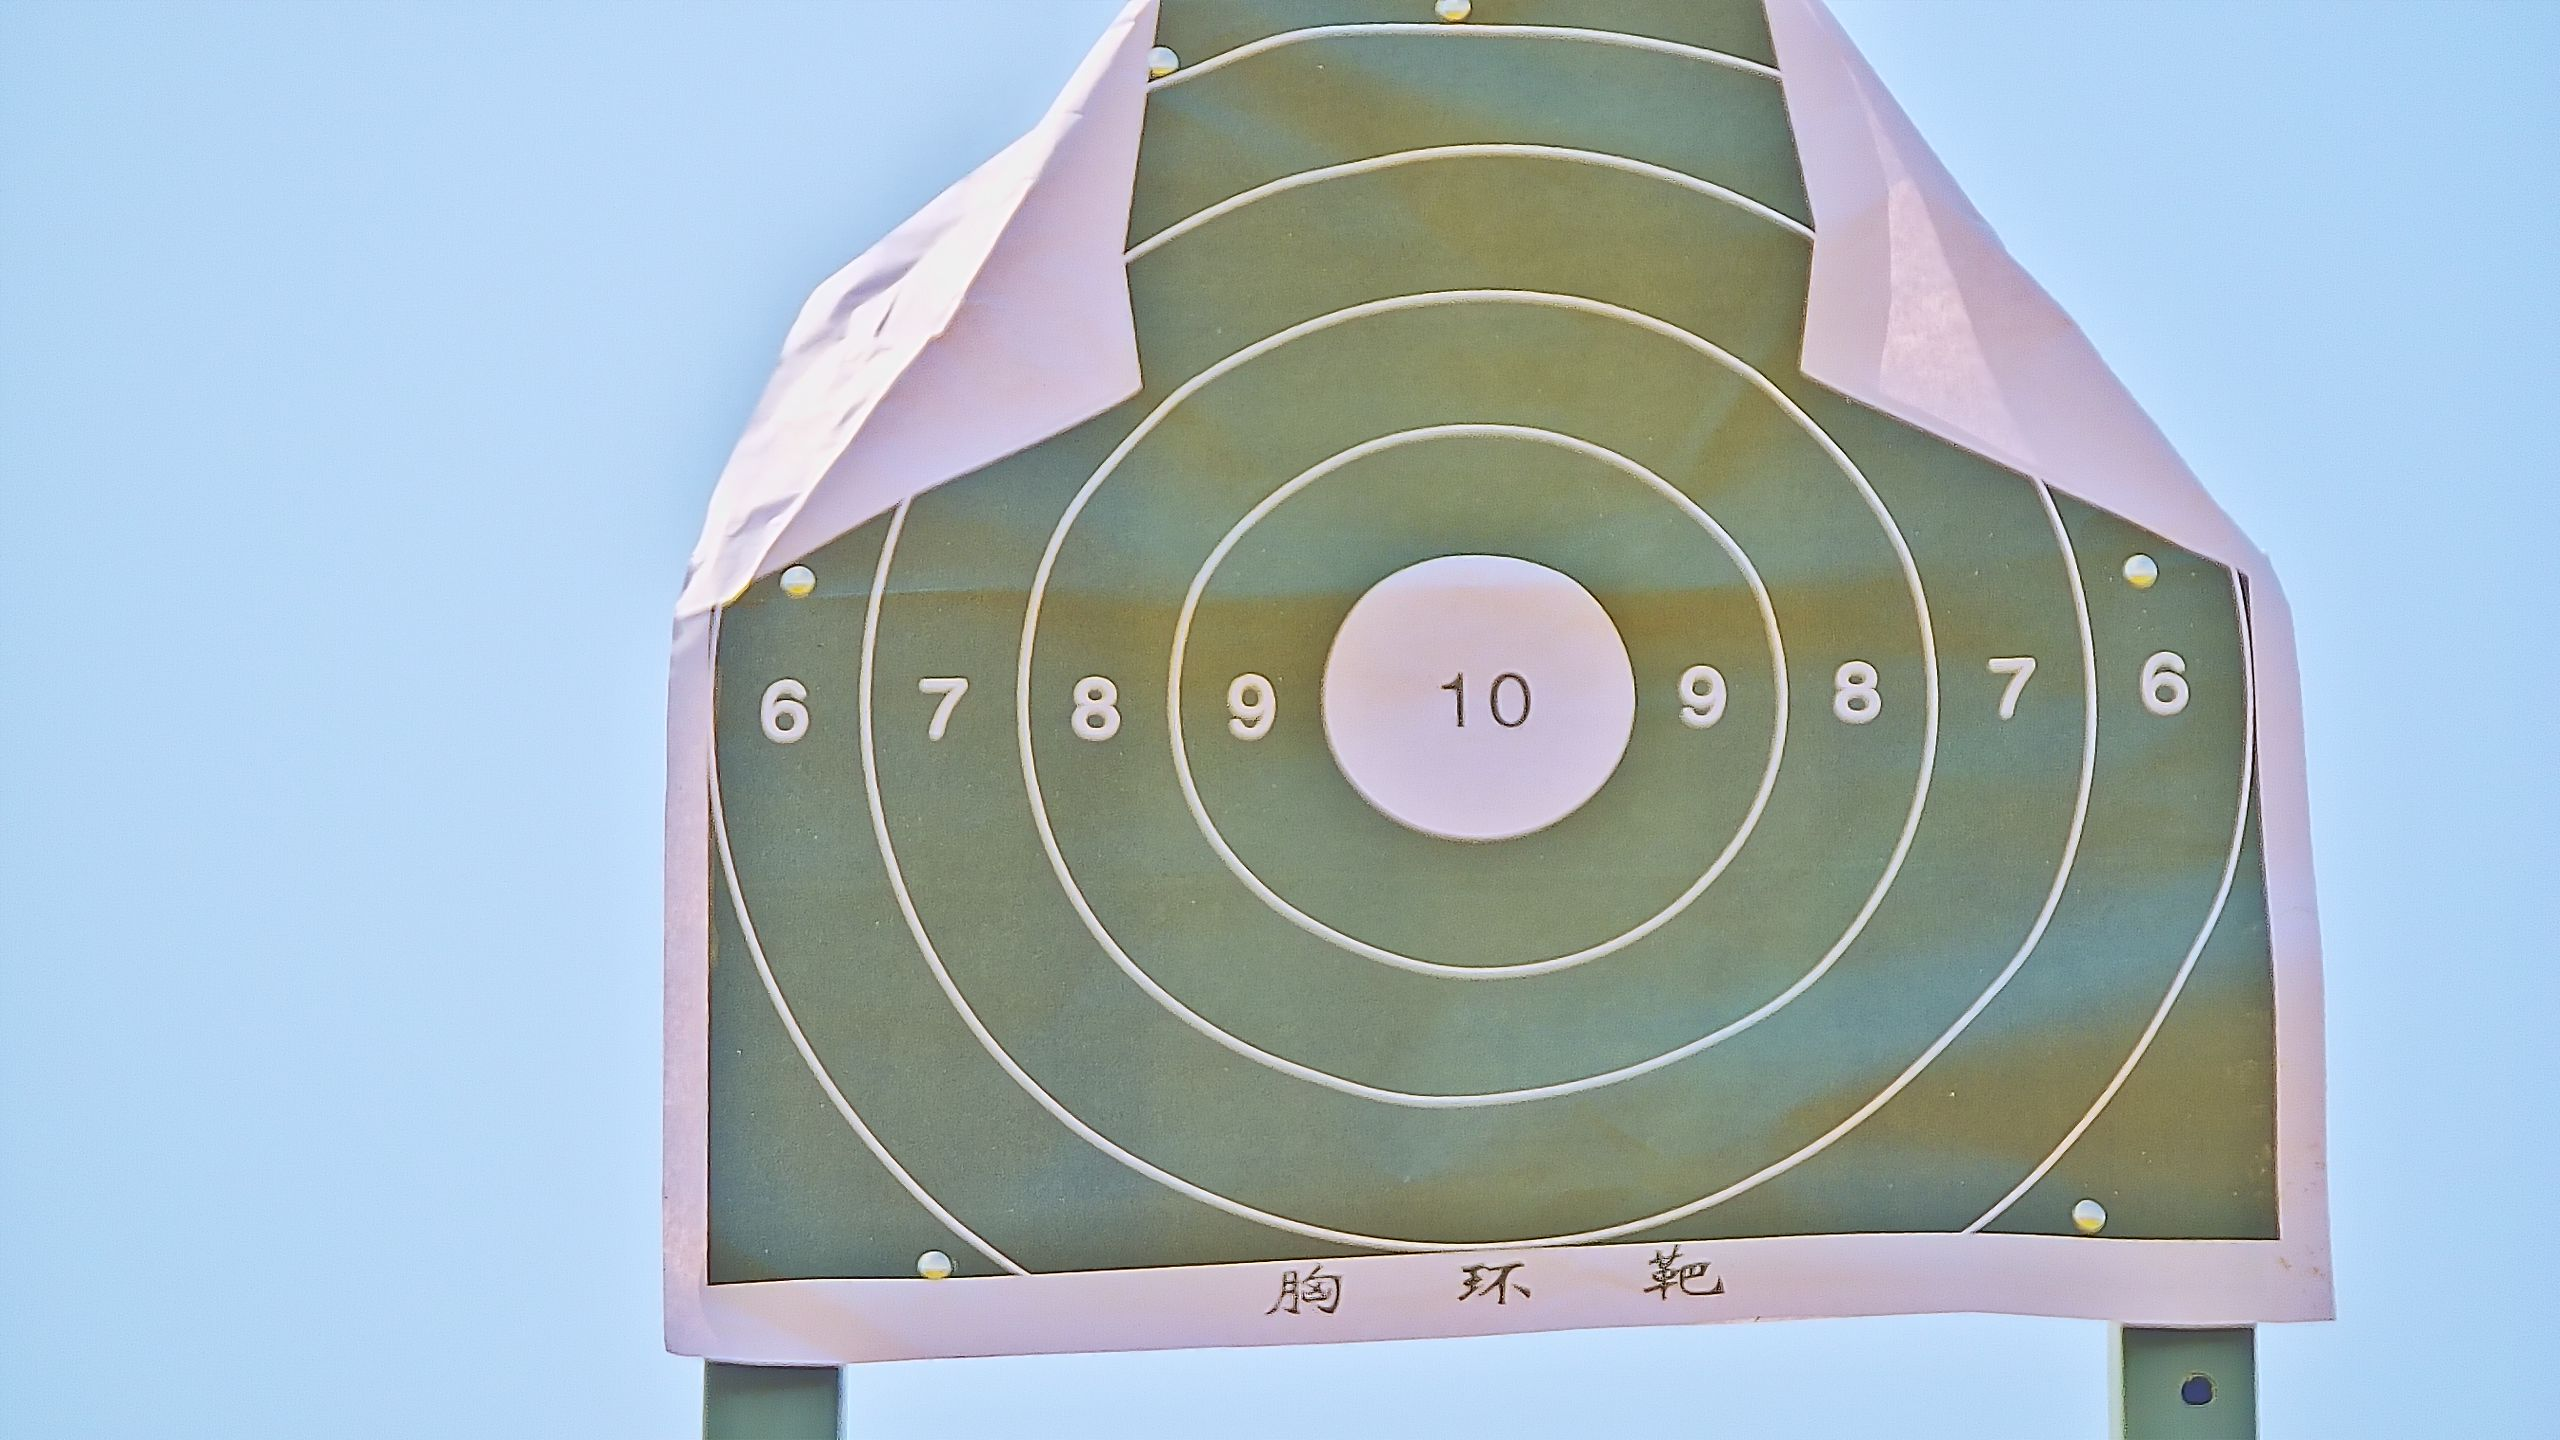kernel: (1475, 693, 1480, 696)
target: (705, 7, 2286, 1278)
ten: (1322, 554, 1642, 840)
